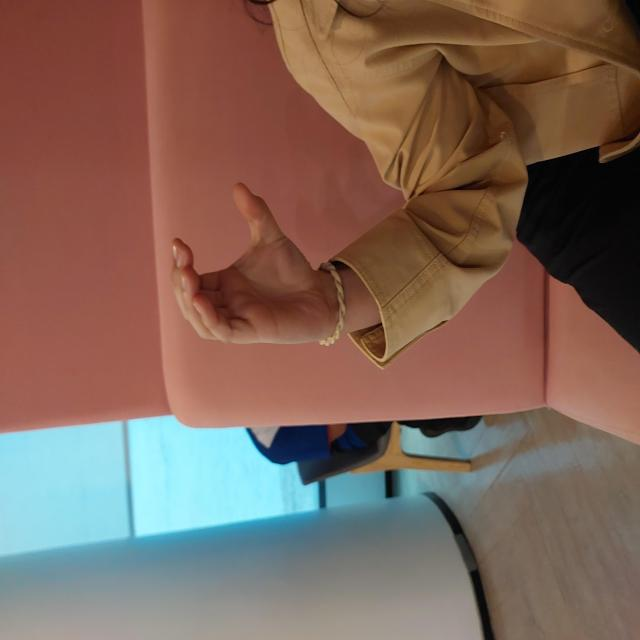C: (289, 163, 468, 334)
